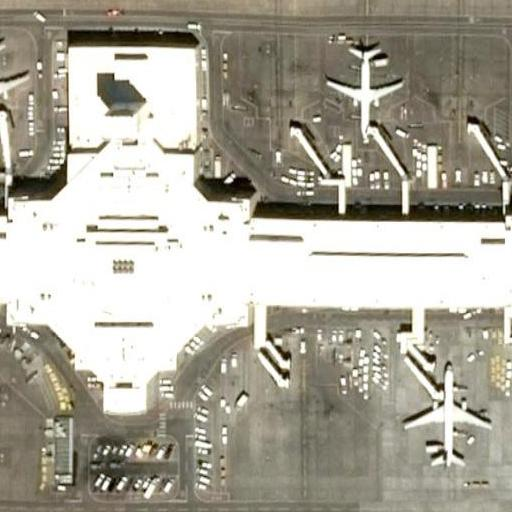Aircraft: (400, 366, 488, 479), (320, 43, 406, 137), (0, 33, 35, 125)
